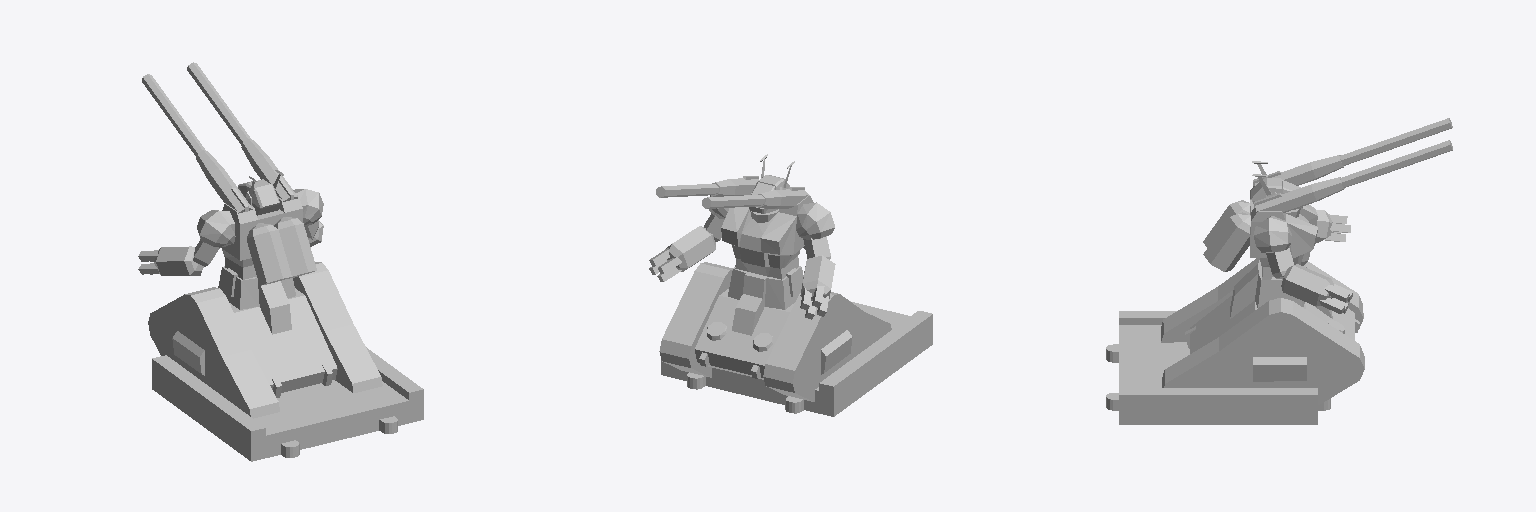
File: Guntank.obj
3 views of the same model, side by side, from view 1: azimuth 30°, elevation 25°; view 2: azimuth 150°, elevation 25°; view 3: azimuth 270°, elevation 25° (orthographic).
Visible parts, largest first — view 1: ms_guntank, small_base_Cube.002_Stand_sep11_auv2.004; view 2: ms_guntank, small_base_Cube.002_Stand_sep11_auv2.004; view 3: ms_guntank, small_base_Cube.002_Stand_sep11_auv2.004.
Part boxes in pixels (x1,y1,x2,y2): ms_guntank: (138, 62, 382, 418); small_base_Cube.002_Stand_sep11_auv2.004: (152, 347, 423, 461); ms_guntank: (649, 154, 891, 401); small_base_Cube.002_Stand_sep11_auv2.004: (661, 301, 932, 416); ms_guntank: (1161, 118, 1452, 404); small_base_Cube.002_Stand_sep11_auv2.004: (1106, 311, 1330, 424).
Size of the model in its own units: 2.37 by 3.24 by 4.03.